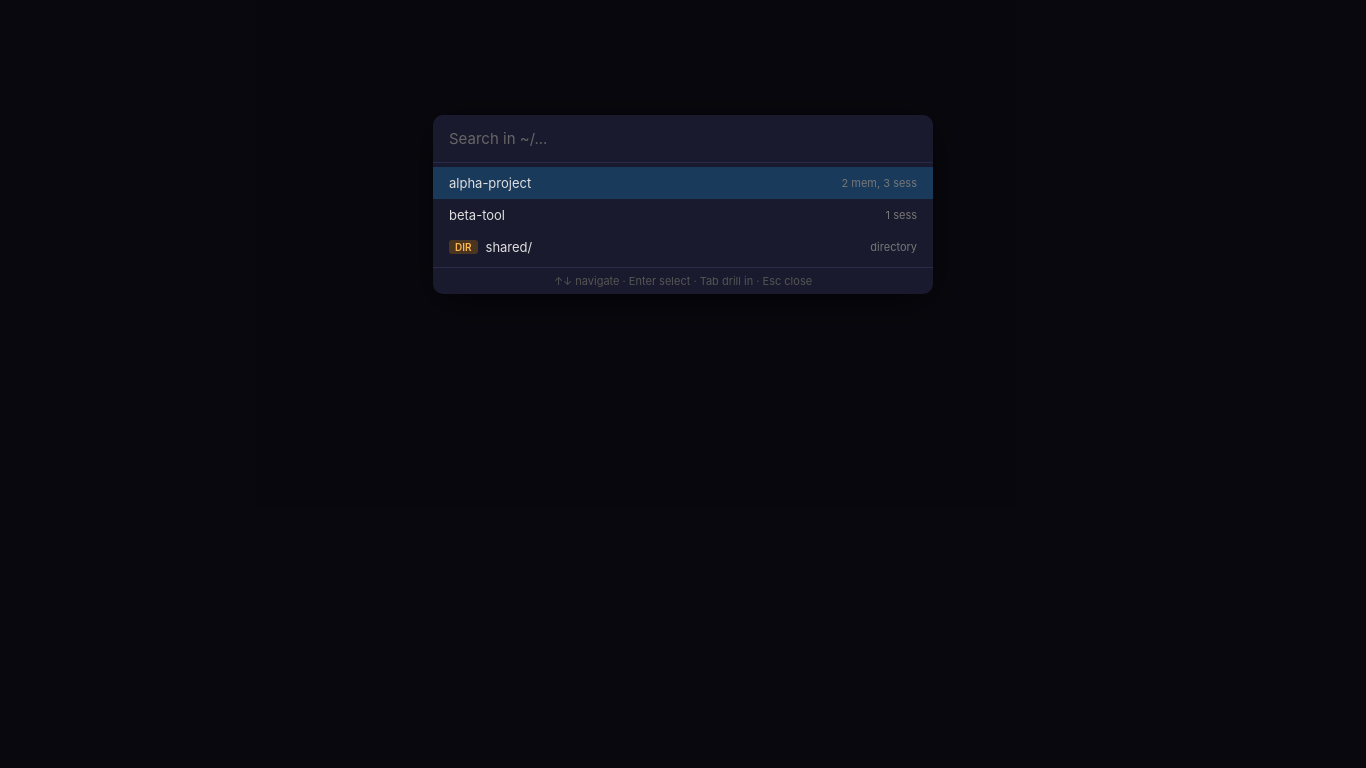
Test case: QuickOpen › filters results by typing a query
Step 1. Type "alpha" into the field → (683, 139), box [433,115,933,163]
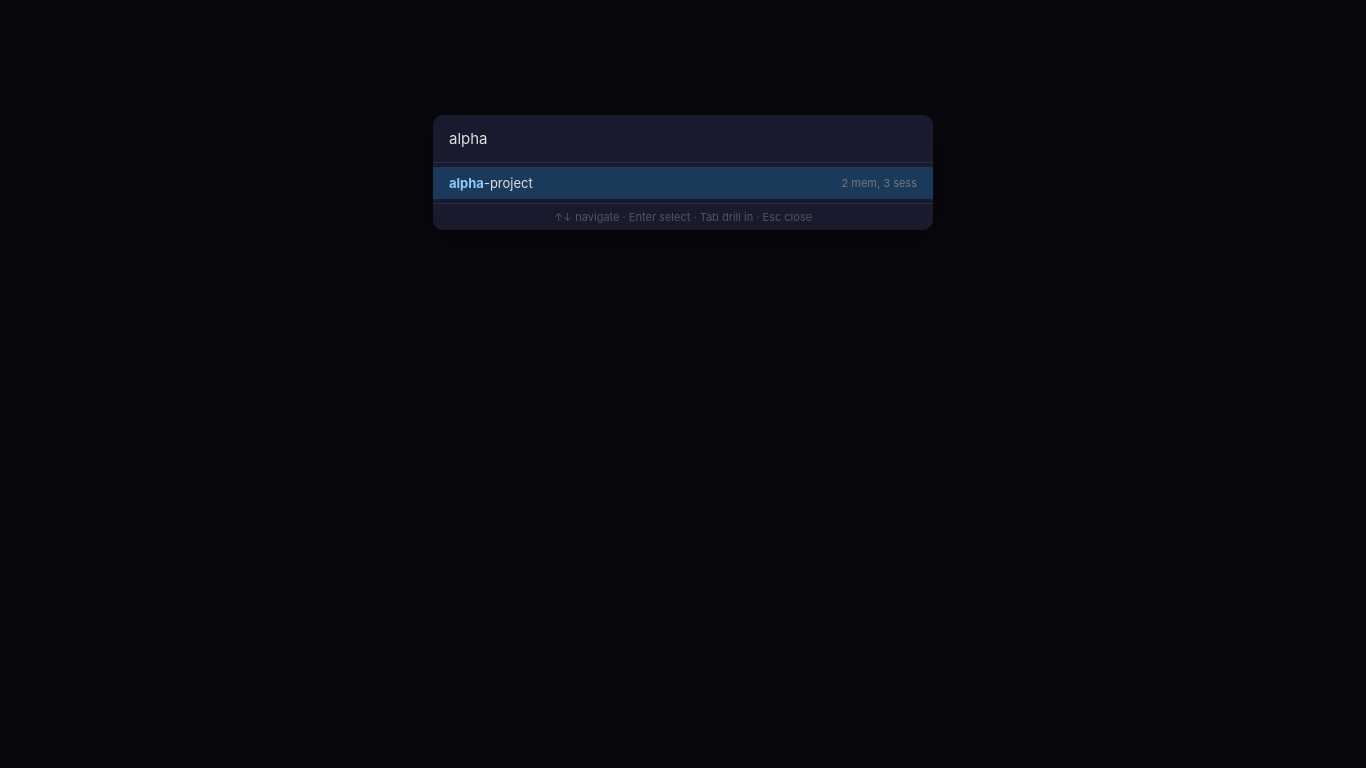
expect the list item shows "alpha-project": met, box [433,167,933,199]
expect the number of list items is 1: met, box [433,167,933,199]
